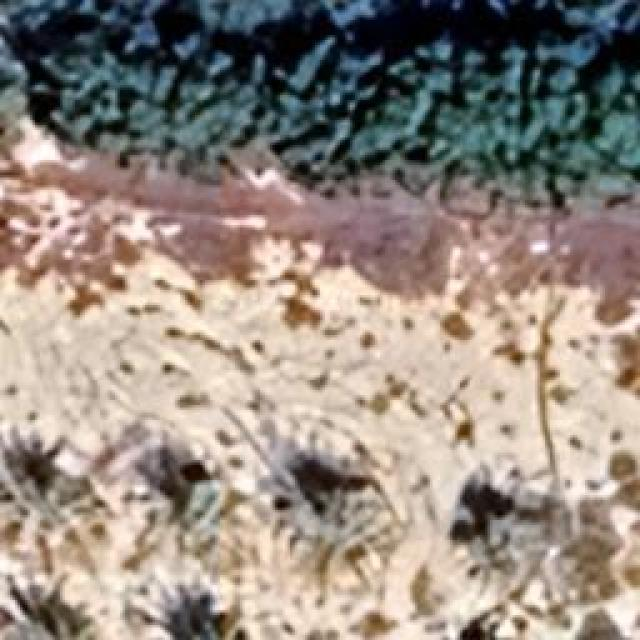PalmTree: (0, 472, 110, 572), (294, 461, 392, 551), (462, 497, 552, 585), (142, 478, 236, 558), (142, 587, 227, 640), (2, 608, 100, 638)
